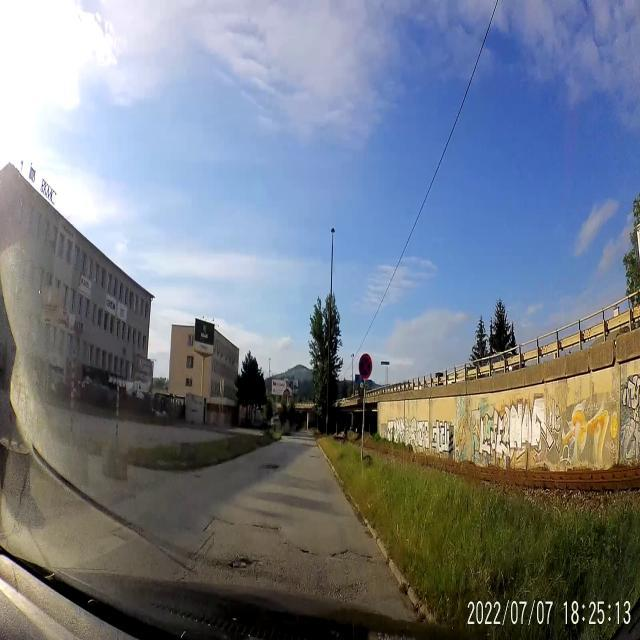Pothole: (332, 544, 370, 572), (227, 547, 257, 572), (252, 519, 286, 539), (259, 458, 281, 474)
